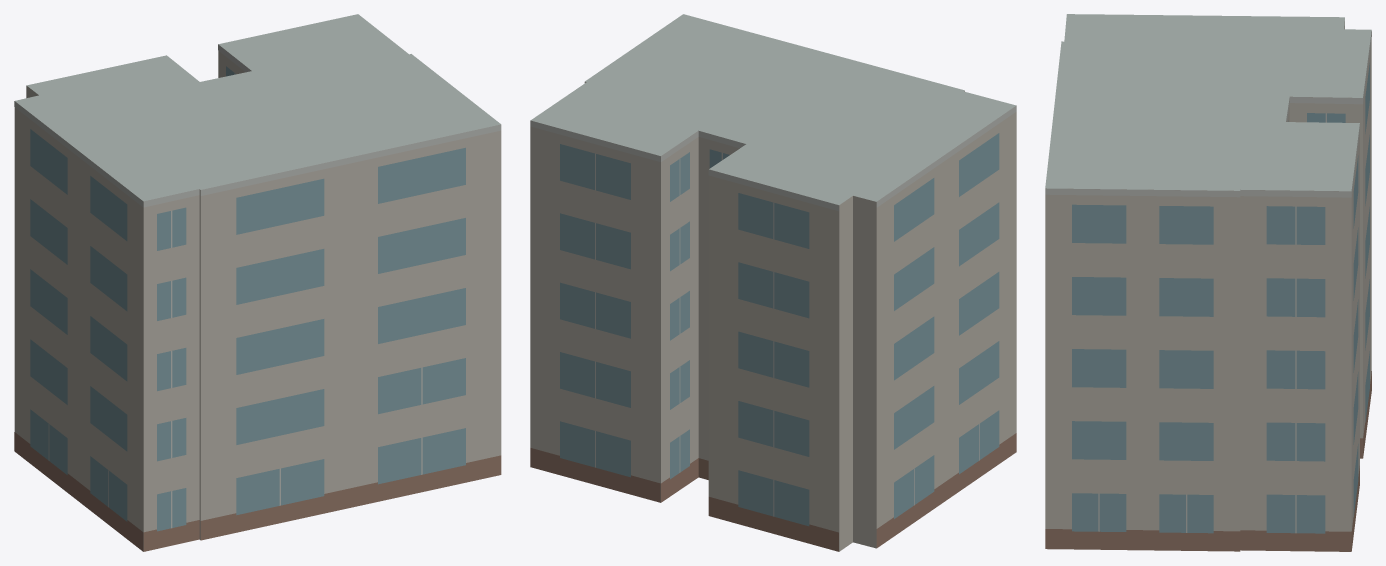
File: survey-upis-32652733.glb
3 views of the same model, side by side, from view 1: azimuth 30°, elevation 25°; view 2: azimuth 150°, elevation 25°; view 3: azimuth 270°, elevation 25° (orthographic). The views are drawn at different scales.
Visible parts, largest first — view 1: survey-upis-32652733.tmp; view 2: survey-upis-32652733.tmp; view 3: survey-upis-32652733.tmp.
Part boxes in pixels (<box>): survey-upis-32652733.tmp: <box>14,14,501,551</box>; survey-upis-32652733.tmp: <box>530,14,1016,551</box>; survey-upis-32652733.tmp: <box>1045,14,1371,551</box>.
Bounding box in the file's own units: 14.67 × 13.9 × 11.42.
